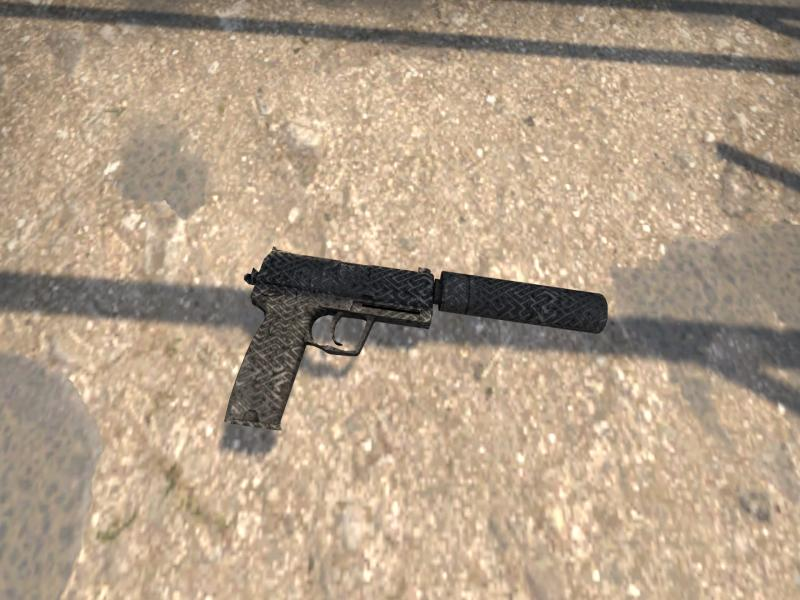USP: (225, 248, 608, 428)
